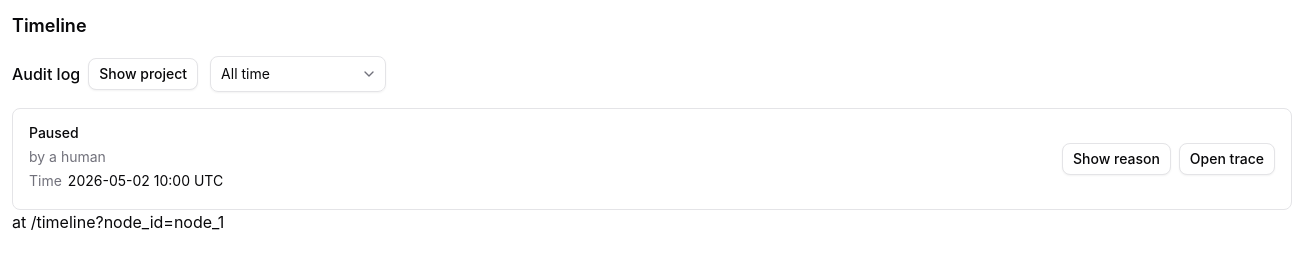
Test: TimelineScreen › shows an act by a human and reads its reason on demand
Expected: the text "by a human" is shown, top-left (29, 148), bottom-right (106, 165)
Click the button "Show reason" at (1116, 159), box top-left (1062, 143), bottom-right (1171, 175)
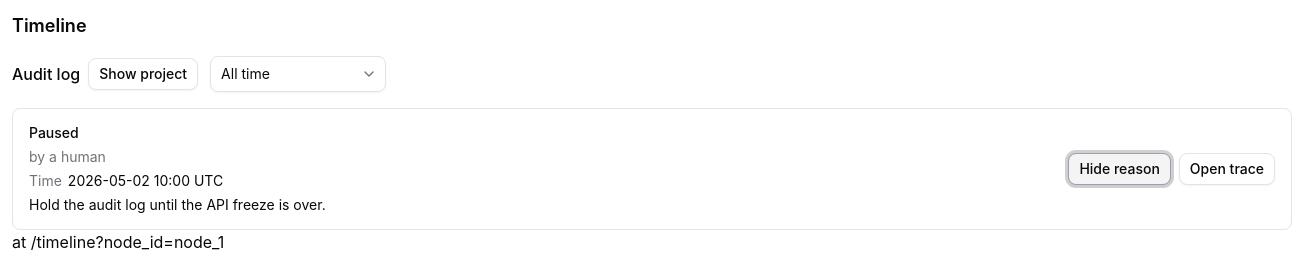
Expected: the text "Hold the audit log until the API freeze is over." is shown, top-left (29, 196), bottom-right (326, 213)
